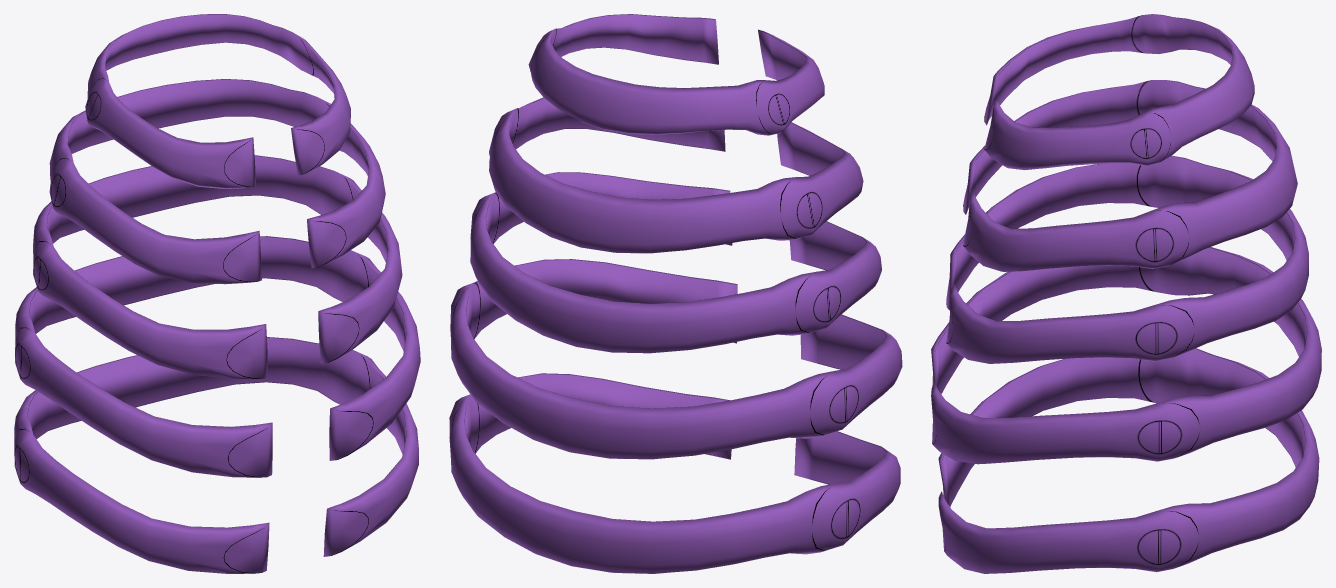
Rendered from susanoo.glb.
The picture shows the model from 3 angles, left to right: view 1: azimuth 30°, elevation 25°; view 2: azimuth 150°, elevation 25°; view 3: azimuth 270°, elevation 25°; orthographic projection. The views are drawn at different scales.
Parts seen in each view (by area): view 1: Object_4; view 2: Object_4; view 3: Object_4.
Boxes of the visible parts, x1,y1,x2,y2 form: Object_4: (14,14,420,573); Object_4: (449,14,902,573); Object_4: (931,14,1321,573).
Size of the model in its own units: 135 by 163 by 122.
1 material, 1 textured.
